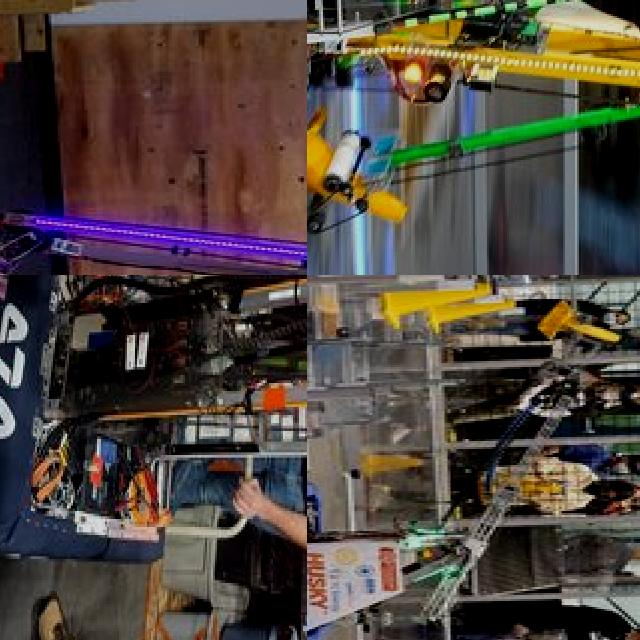FRC-Robots: (307, 281, 640, 640), (0, 275, 307, 623), (307, 0, 640, 244), (0, 166, 307, 275)
